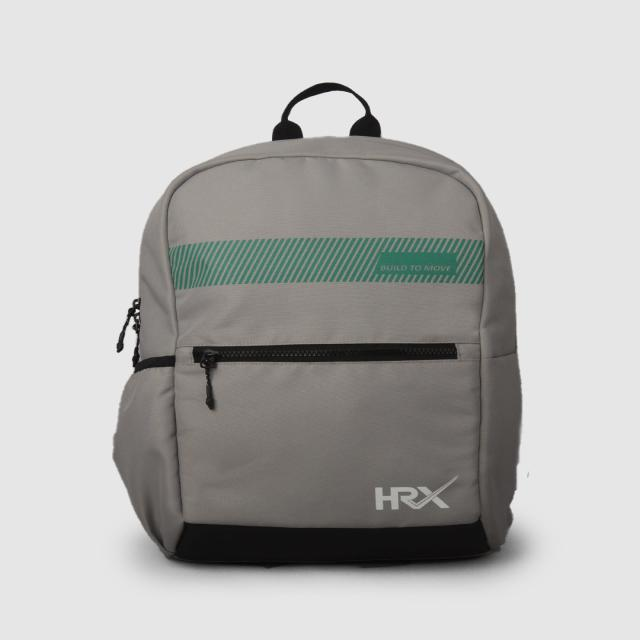backpack: (112, 81, 523, 566)
